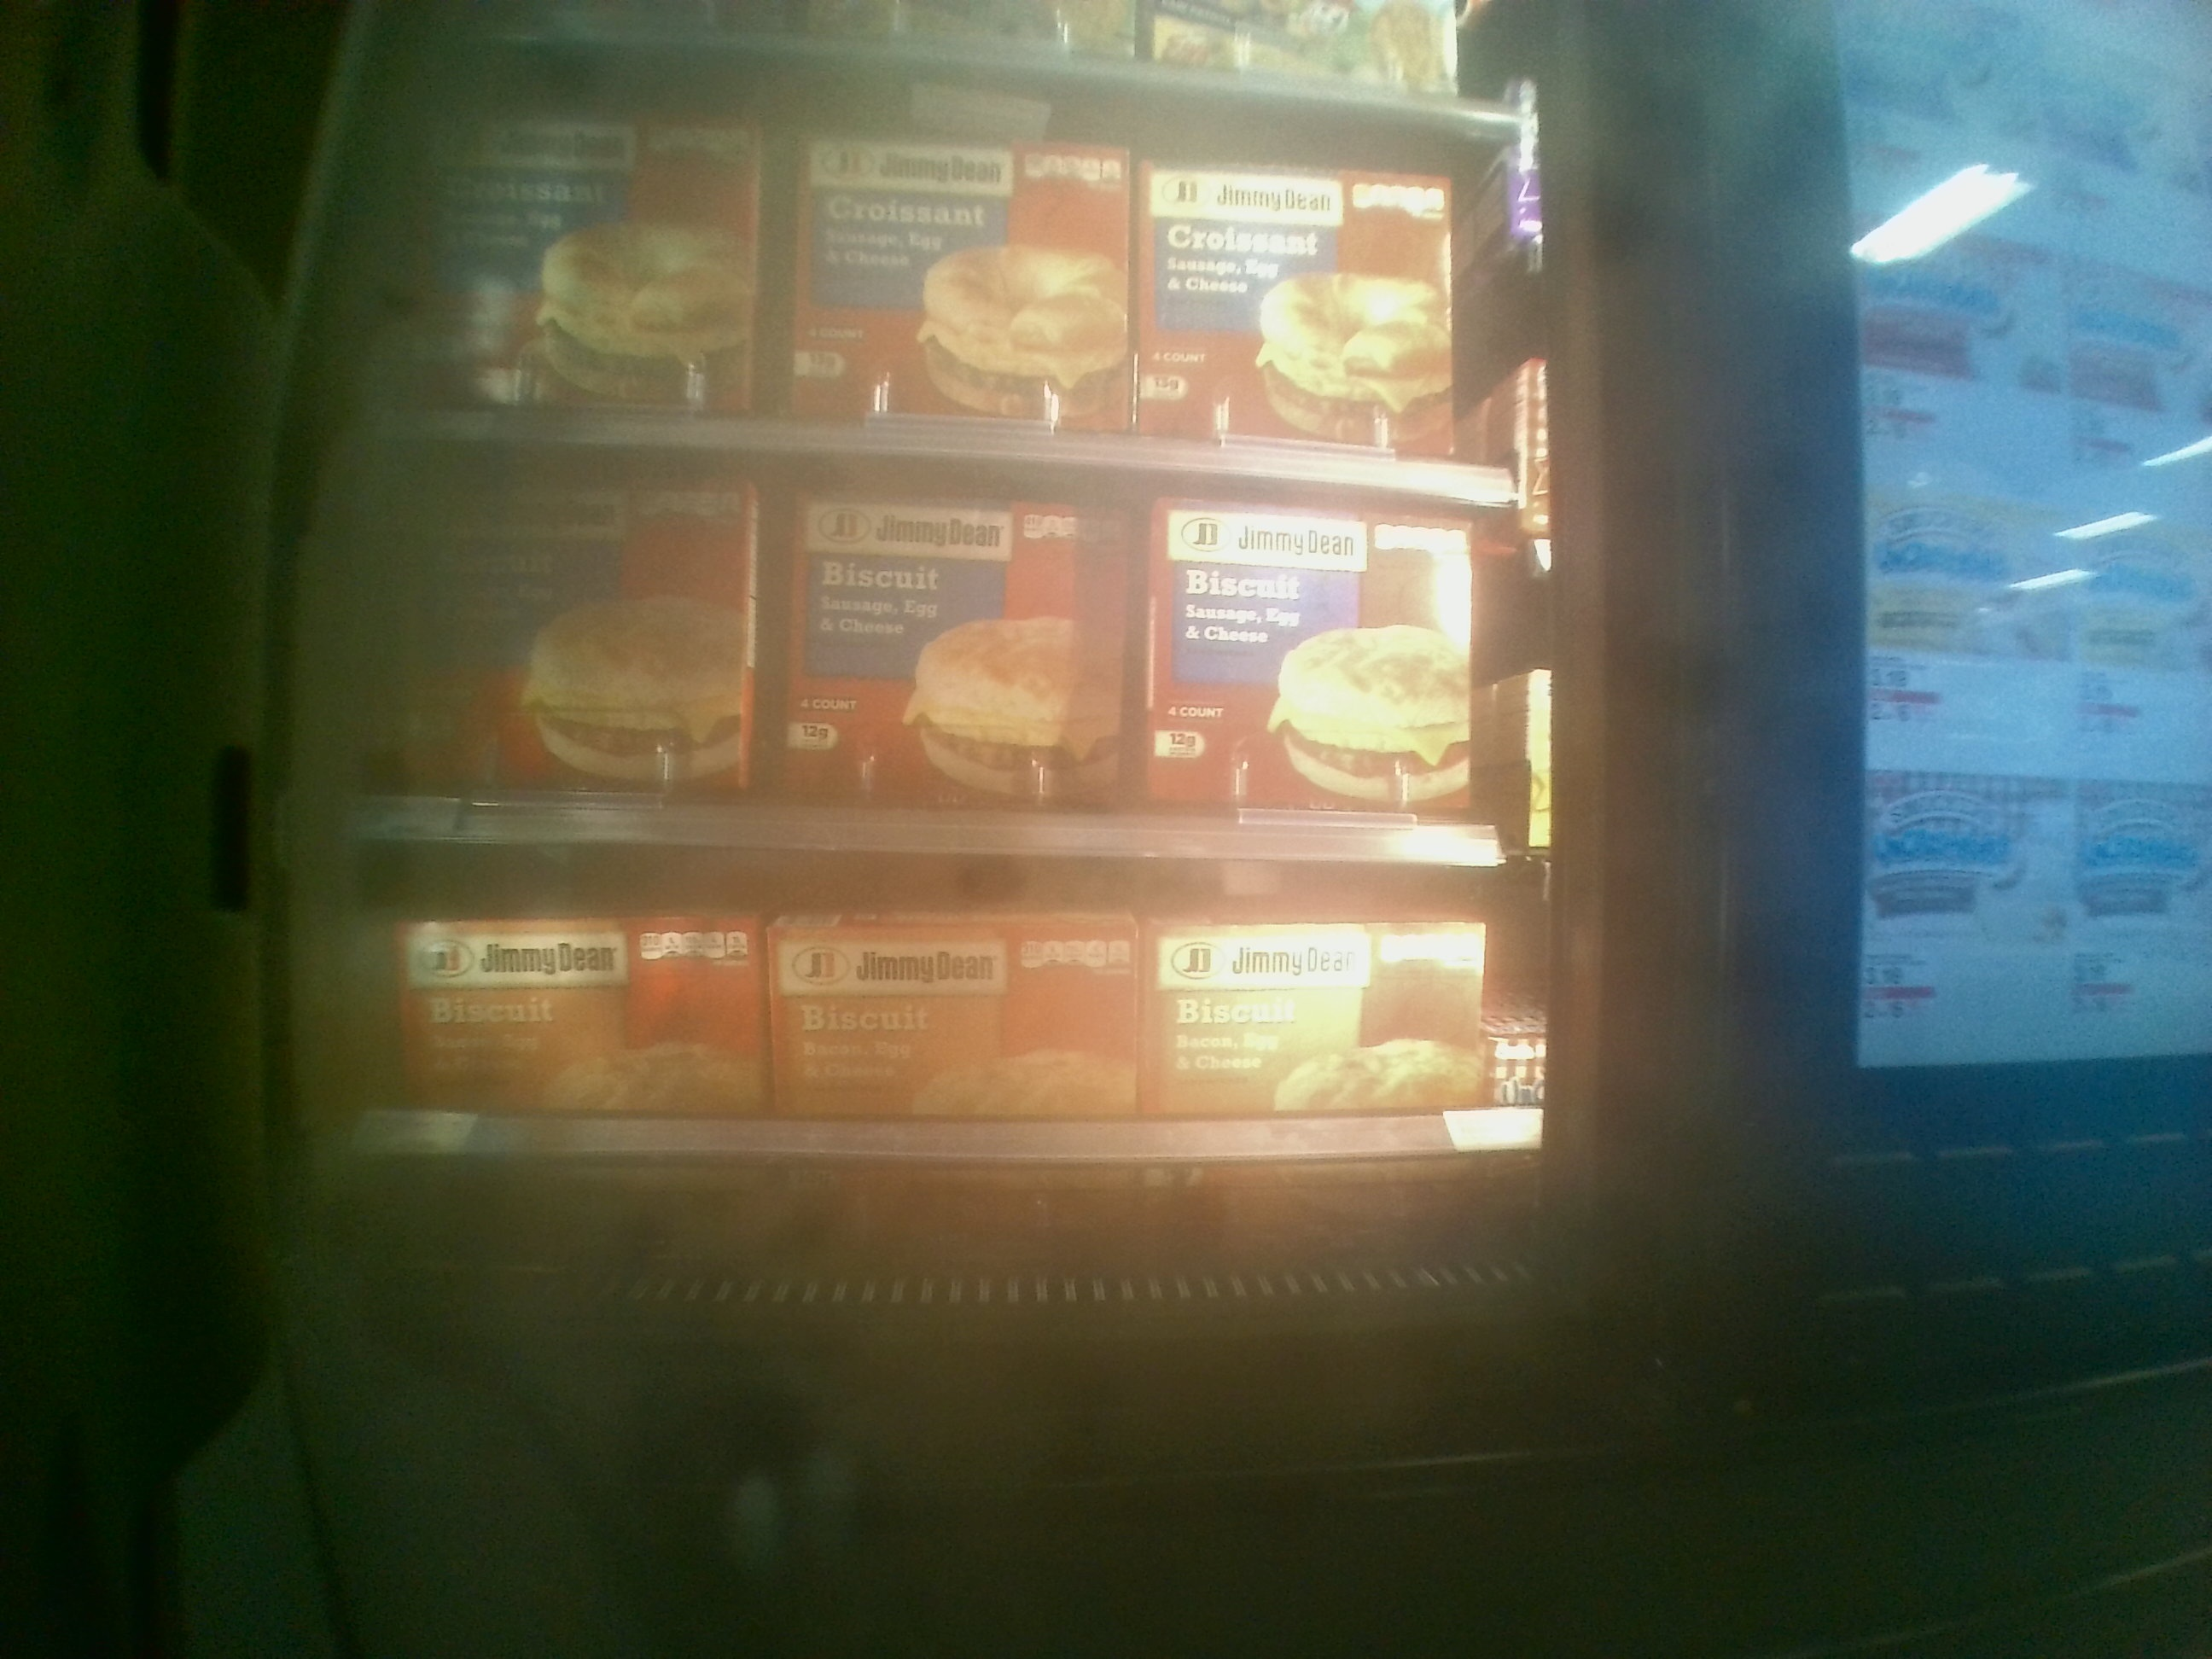shelf: (343, 838, 1561, 1276), (329, 437, 1524, 864)
